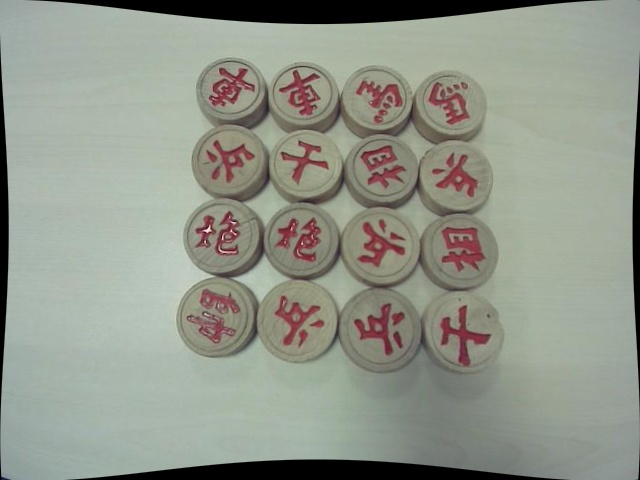Red-Cannon: (193, 208, 253, 268), (273, 208, 328, 267)
Red-Chariot: (203, 62, 259, 117), (275, 63, 330, 118)
Red-Elephant: (432, 224, 491, 277), (360, 139, 409, 194)
Red-General: (181, 283, 242, 347)
Red-Guard: (435, 298, 493, 369), (276, 134, 339, 196)
Red-Horse: (424, 73, 487, 131), (352, 71, 405, 128)
Red-Soldier: (349, 299, 416, 361), (265, 292, 334, 350), (349, 214, 412, 273), (200, 127, 255, 187), (424, 148, 480, 202)
